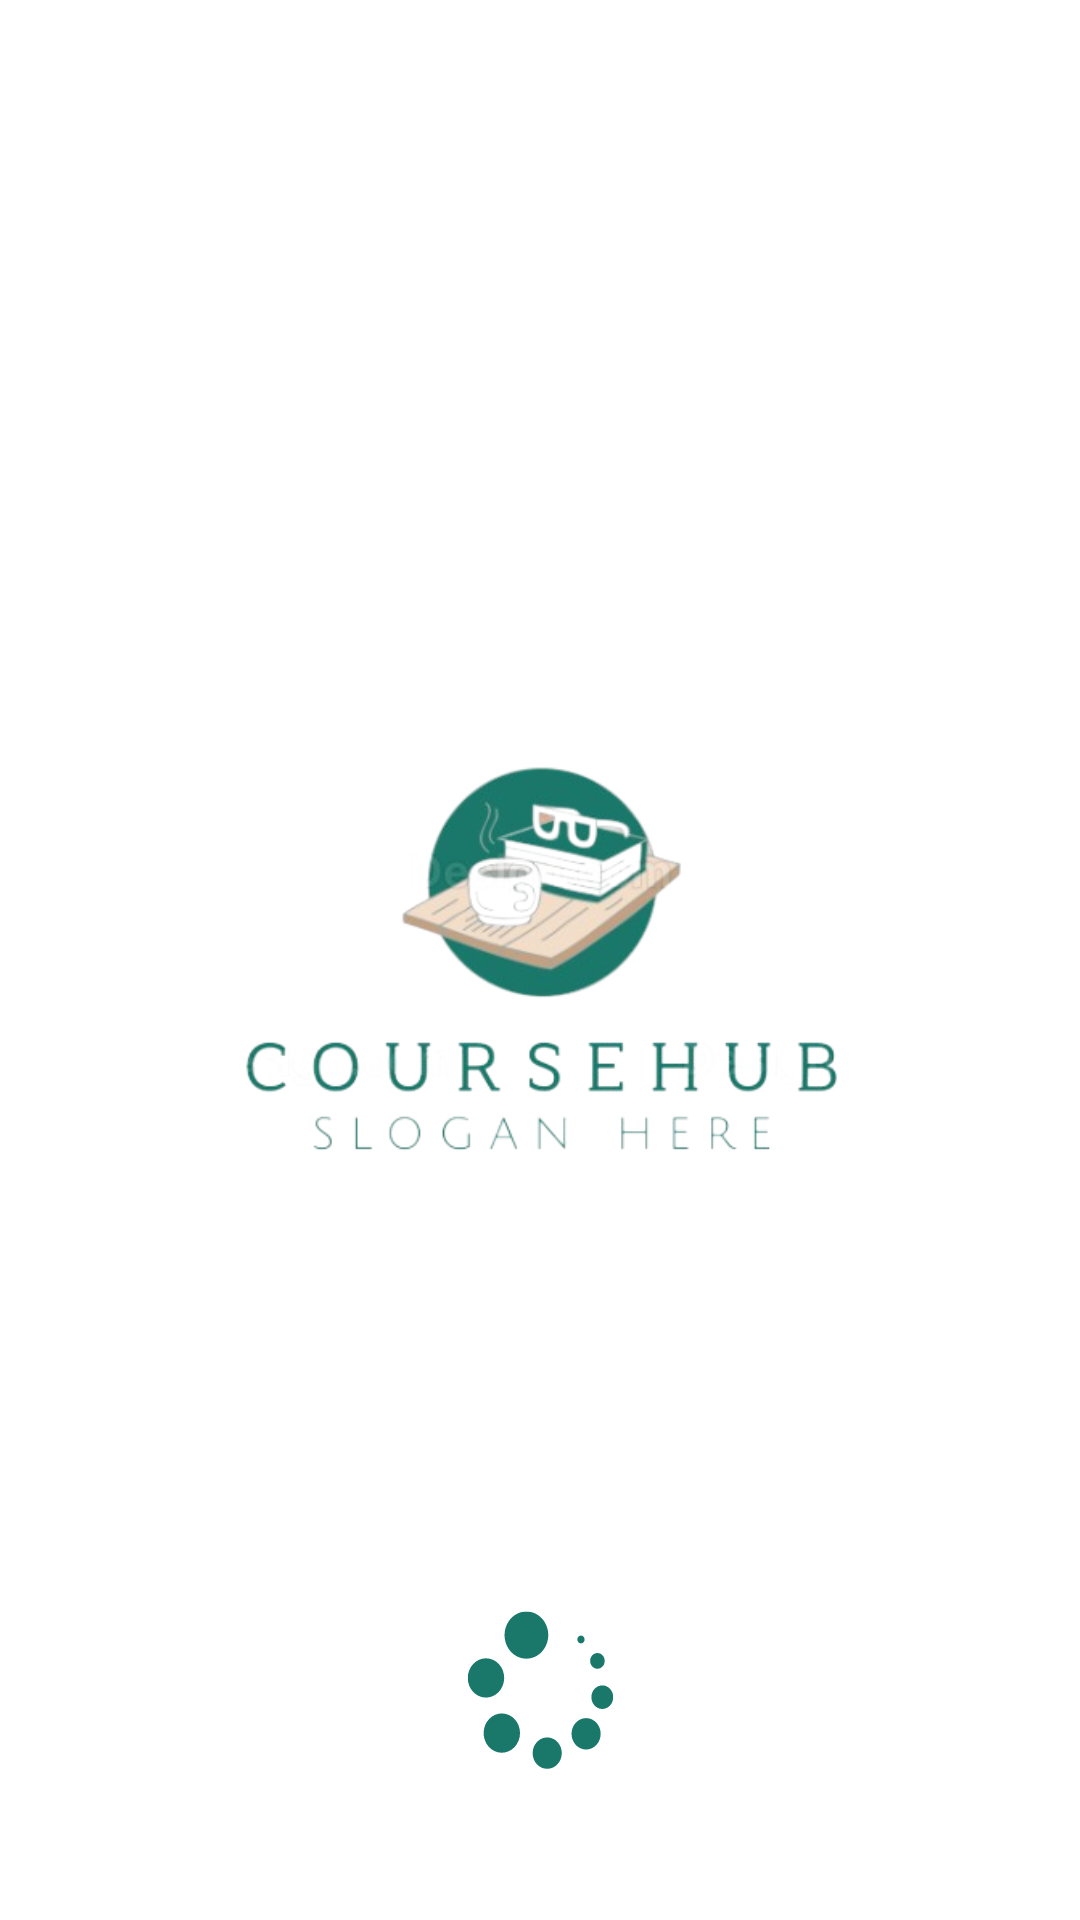

Where to tap for icons on this 1080px×1920px app screen, as (x=x, y=y):
uiw loading: (x=540, y=1690)
